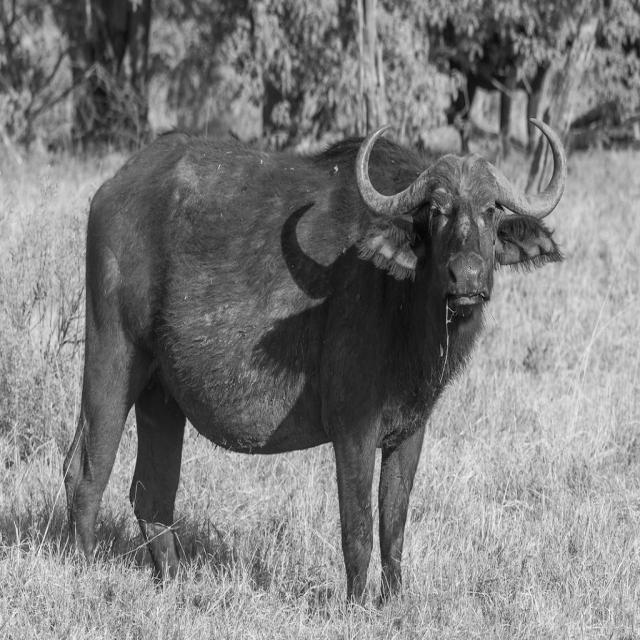Buffalo: (63, 115, 568, 613)
